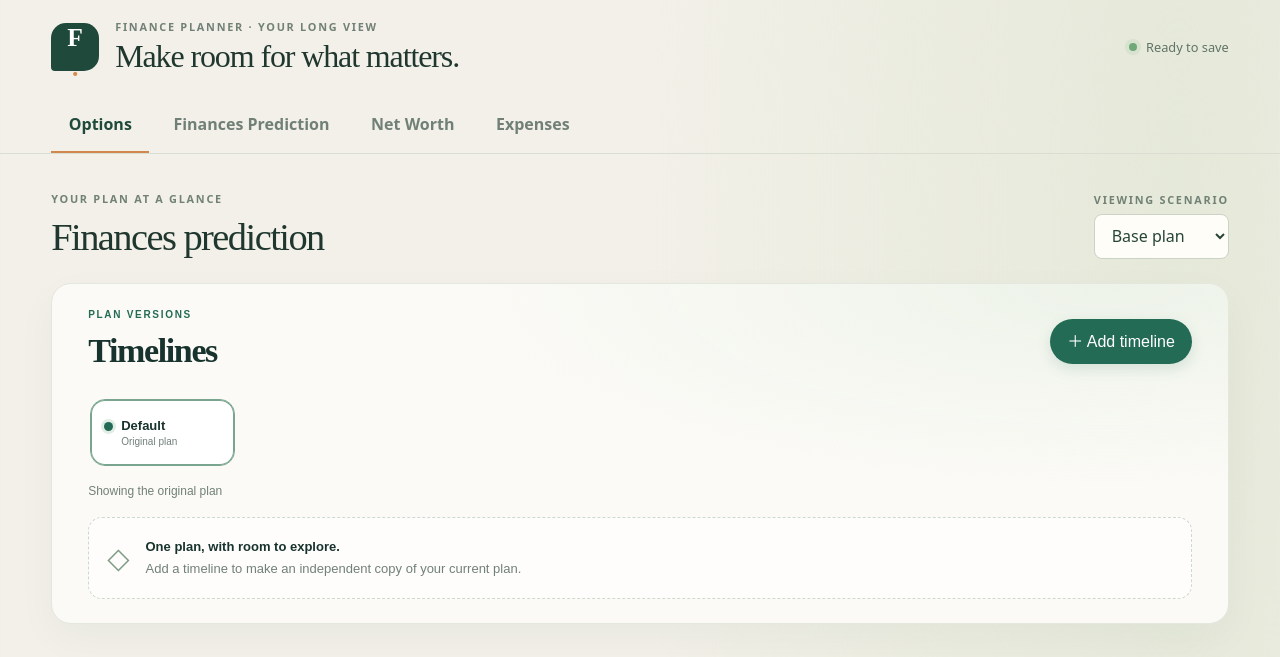
Test: App integration (Phase 5 GUI acceptance) › starts every account at $0 opening, 0% return and no retirement override
Click the button "Net Worth".
click(413, 126)  # box [354, 99, 472, 153]
(page scrolled)
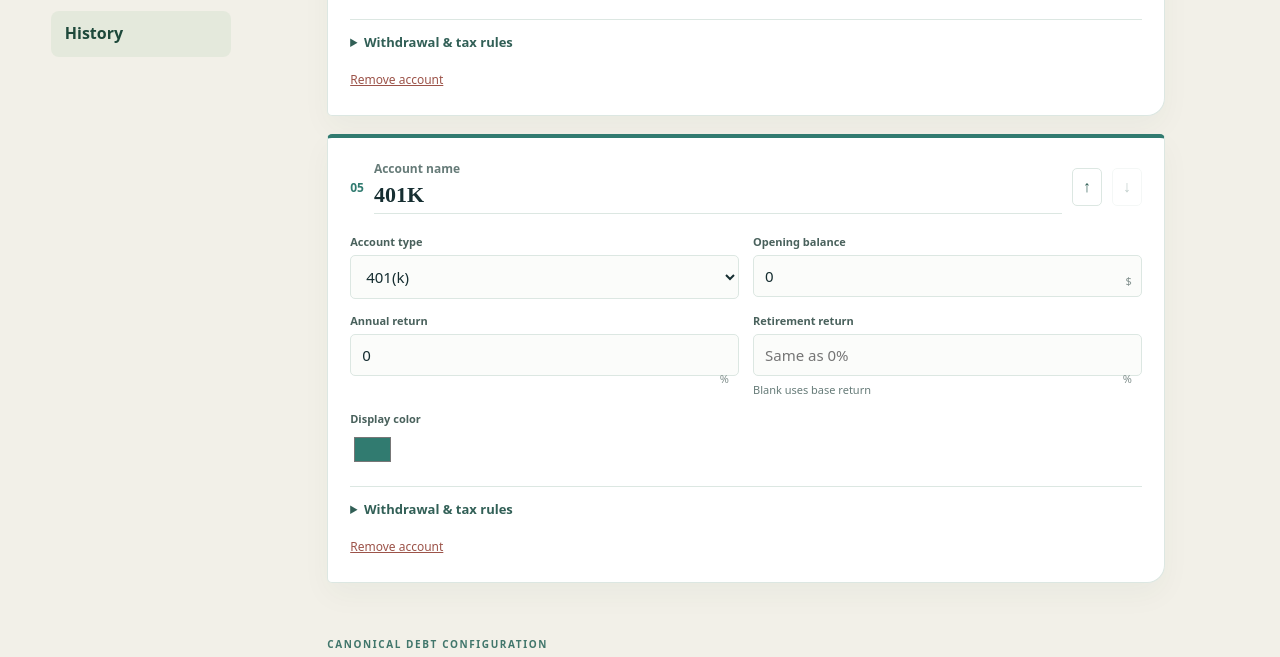
Result: the number of fields labelled "Opening balance" is 5
Result: the number field labelled "Opening balance $" holds "0" at [753, 255, 1142, 297]
Result: the number field labelled "Annual return %" holds "0" at [350, 334, 739, 376]
